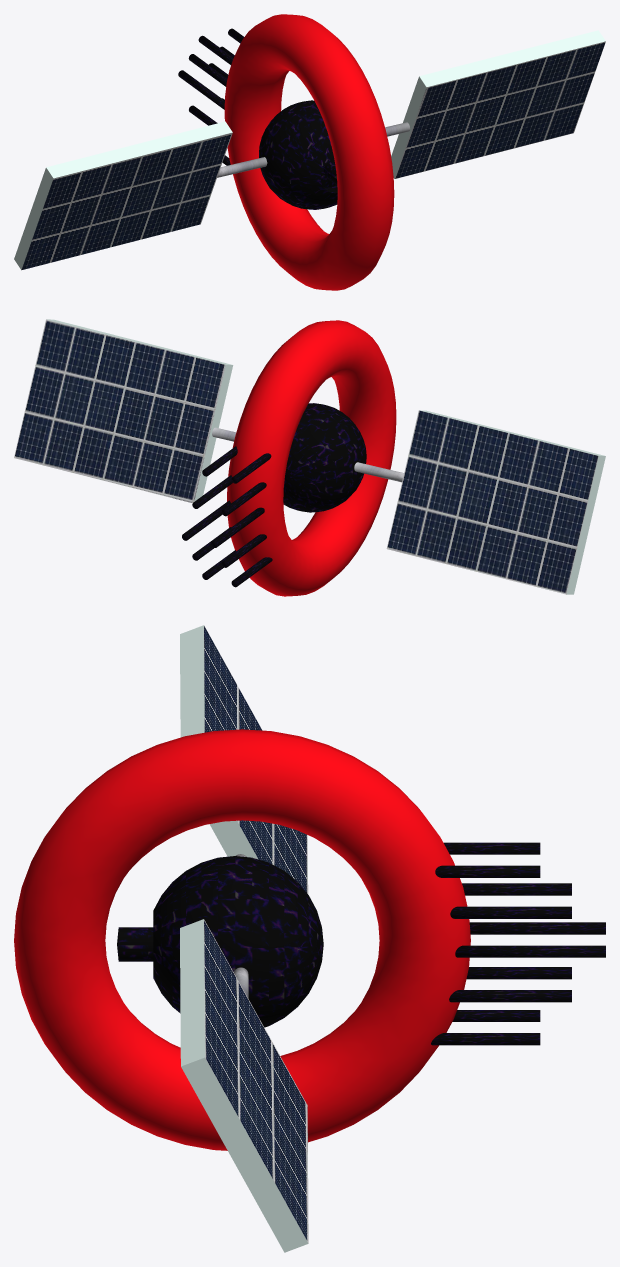
The model's file is blitz.gltf.
3 views of the same model, one above another, from view 1: azimuth 30°, elevation 25°; view 2: azimuth 150°, elevation 25°; view 3: azimuth 270°, elevation 25° (orthographic). The views are drawn at different scales.
Parts seen in each view (by area): view 1: Torus, Cube.001, Cube, Sphere, Cylinder.001, Cylinder.005; view 2: Cube.001, Cube, Torus, Sphere, Cylinder.001, Cylinder.005, Cylinder.002, Cylinder.006, Cylinder.007, Cylinder.003; view 3: Torus, Cube, Sphere, Cube.001, Cylinder.002, Cylinder.005, Cylinder.004, Cylinder.003, Cylinder.006, Cylinder.010, Cylinder.007, Cylinder.008 (+2 smaller).
Part boxes in pixels (left/top/right/bottom): Torus: left=224, top=14, right=394, bottom=290; Cube.001: left=14, top=121, right=232, bottom=270; Cube: left=391, top=30, right=605, bottom=178; Sphere: left=259, top=100, right=337, bottom=209; Cylinder.001: left=217, top=157, right=267, bottom=177; Cylinder.005: left=178, top=70, right=224, bottom=109; Cube.001: left=386, top=410, right=605, bottom=594; Cube: left=14, top=319, right=233, bottom=503; Torus: left=227, top=320, right=396, bottom=596; Sphere: left=283, top=403, right=366, bottom=512; Cylinder.001: left=354, top=462, right=403, bottom=482; Cylinder.005: left=211, top=507, right=264, bottom=547; Cylinder.002: left=182, top=500, right=230, bottom=540; Cylinder.006: left=221, top=482, right=266, bottom=516; Cylinder.007: left=221, top=534, right=266, bottom=567; Cylinder.003: left=192, top=475, right=232, bottom=508; Torus: left=14, top=729, right=470, bottom=1150; Cube: left=180, top=919, right=308, bottom=1252; Sphere: left=117, top=856, right=323, bottom=1027; Cube.001: left=180, top=625, right=308, bottom=894; Cylinder.002: left=455, top=945, right=605, bottom=957; Cylinder.005: left=469, top=922, right=605, bottom=934; Cylinder.004: left=449, top=990, right=571, bottom=1002; Cylinder.003: left=450, top=906, right=571, bottom=918; Cylinder.006: left=462, top=883, right=571, bottom=895; Cylinder.010: left=431, top=1033, right=540, bottom=1045; Cylinder.007: left=466, top=967, right=571, bottom=979; Cylinder.008: left=435, top=865, right=540, bottom=877.
Size of the model in its own units: 16.82 by 7.46 by 9.66.
9 materials, 9 textured.
